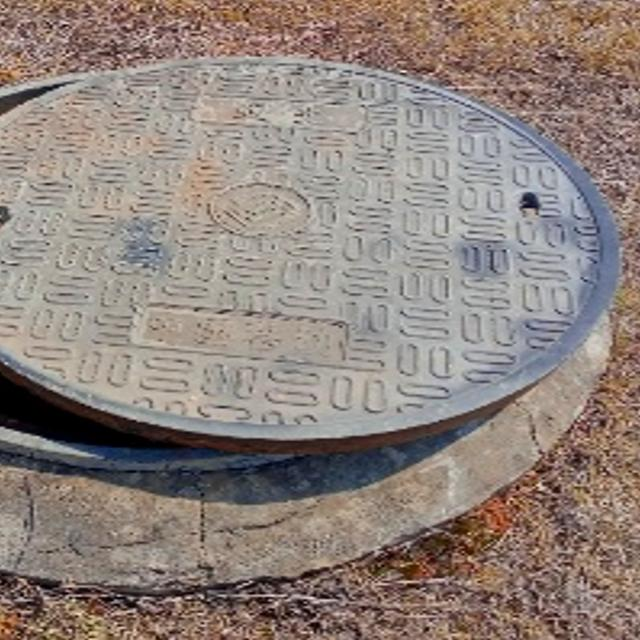uncovered: (0, 54, 619, 474)
